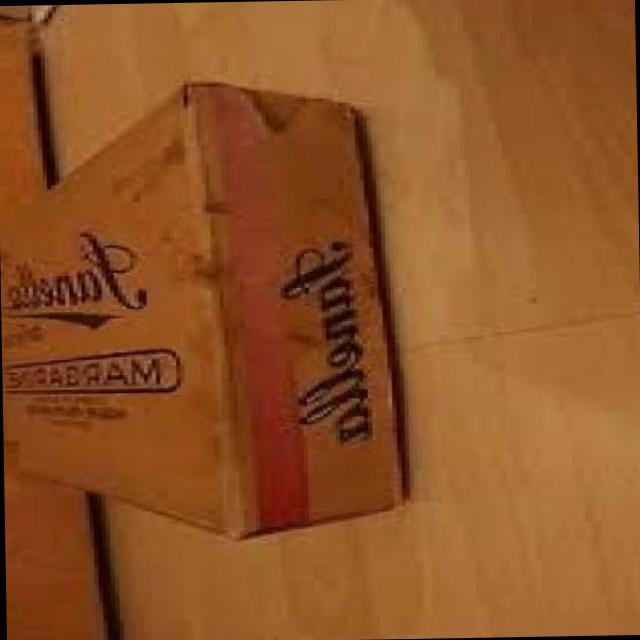cardboard paper: (0, 83, 400, 536)
